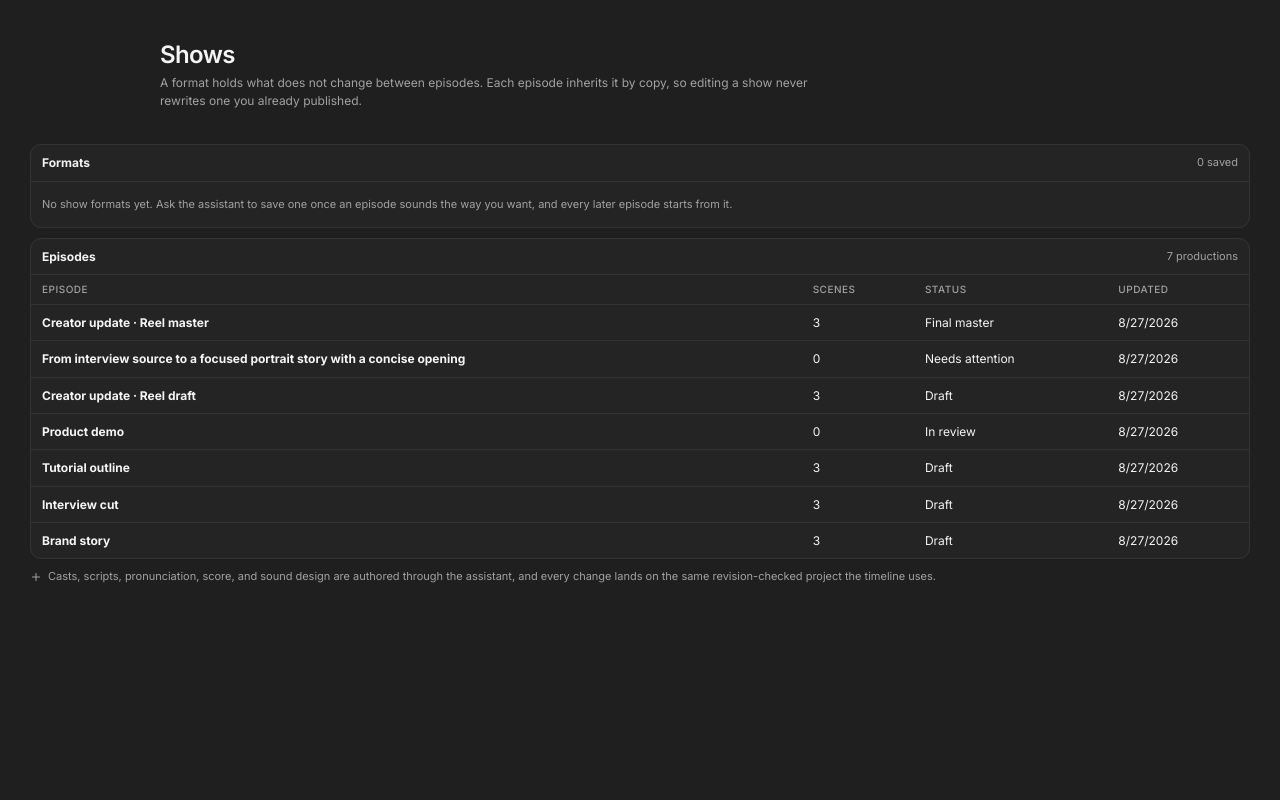
Scenario: ShowsView › reports what an episode's release is still waiting on
Step 1. Click the button with aria-label "Inspect Creator update · Reel master" → (640, 322), box [31, 304, 1249, 341]
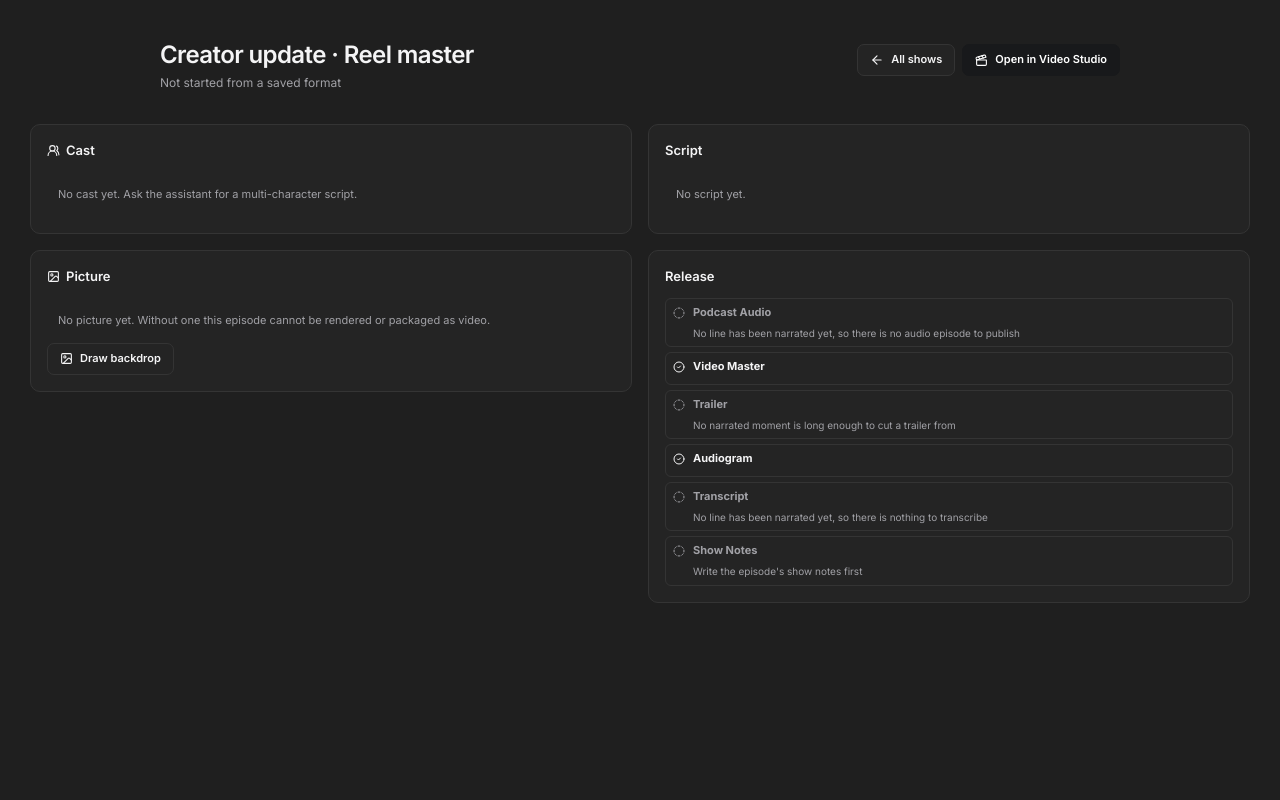
Check: the text "No line has been narrated yet, so there is no audio episode" is shown, box [693, 327, 1020, 339]
